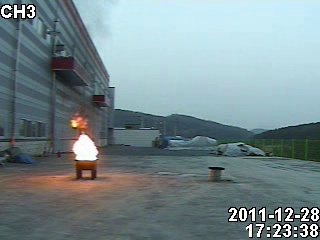fire: (70, 114, 100, 163)
